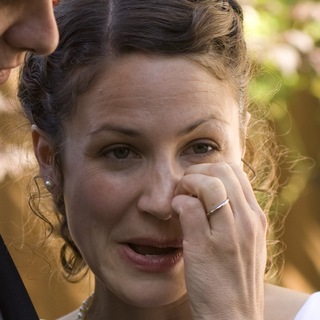eye: (91, 139, 144, 167), (174, 138, 224, 160)
